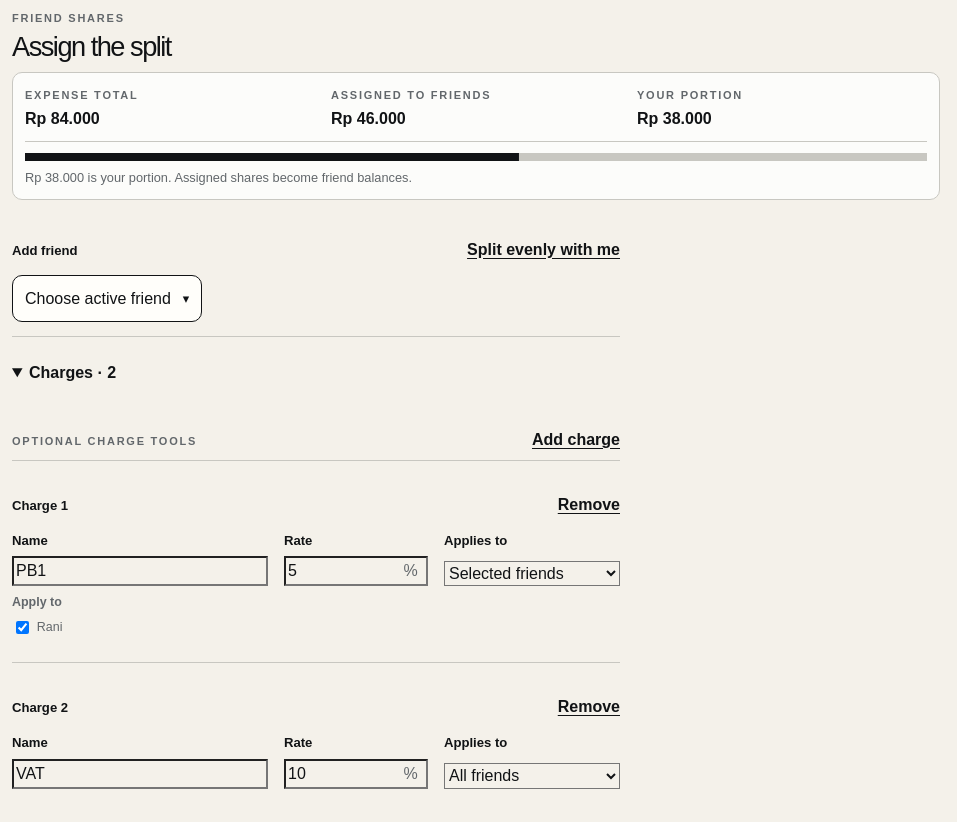
Test: expense share editor › restores a removed charge definition and position
What coordinates should you click on to do the following:
click the 1st button "Remove"
I would click on:
 (589, 505)
Its box is x1=558 y1=485 x2=620 y2=525.
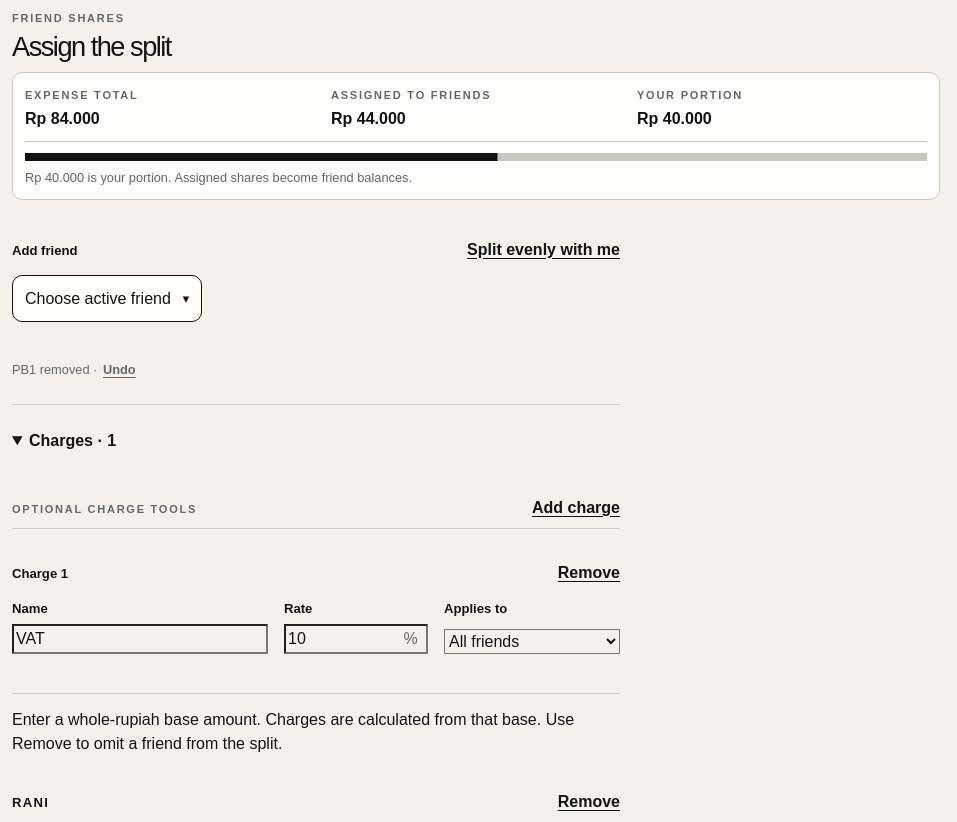
What coordinates should you click on to do the following:
click the button "Undo"
I would click on:
 (119, 370)
Its box is x1=103 y1=350 x2=136 y2=390.
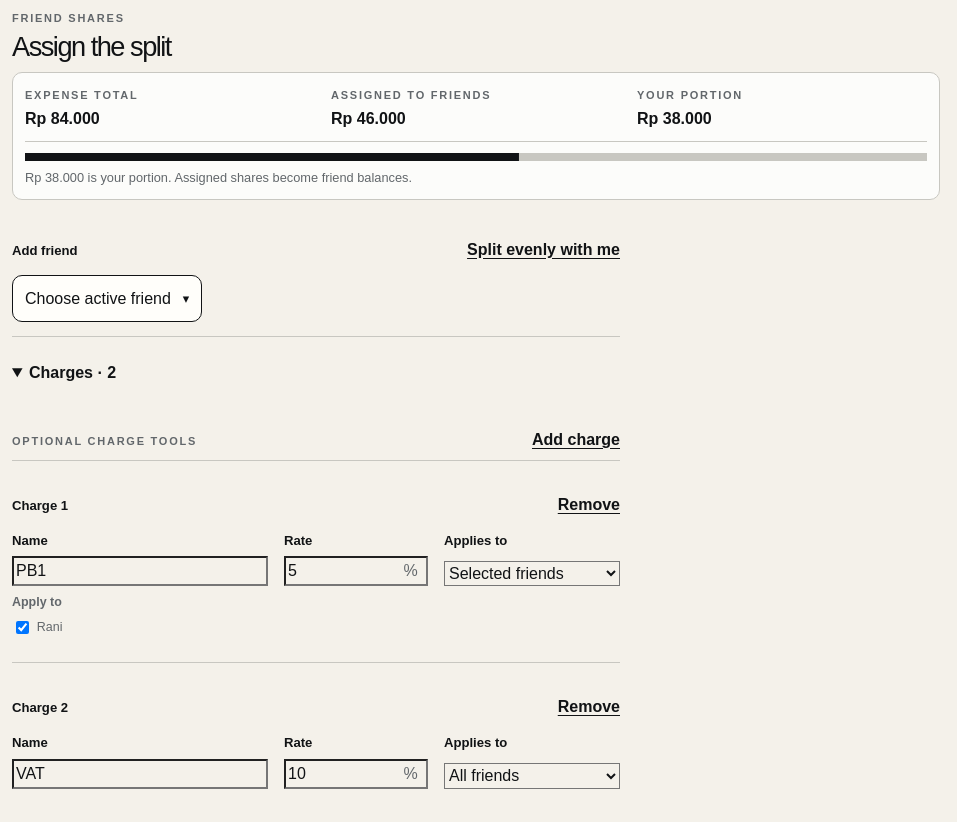
Expected: the 1st field labelled "Name" holds "PB1", x1=12 y1=556 x2=268 y2=586
Expected: the 1st field labelled "Rate" holds "5", x1=284 y1=556 x2=428 y2=586
Expected: the 1st dropdown labelled "Applies to" shows "Selected friends", x1=444 y1=561 x2=620 y2=586
